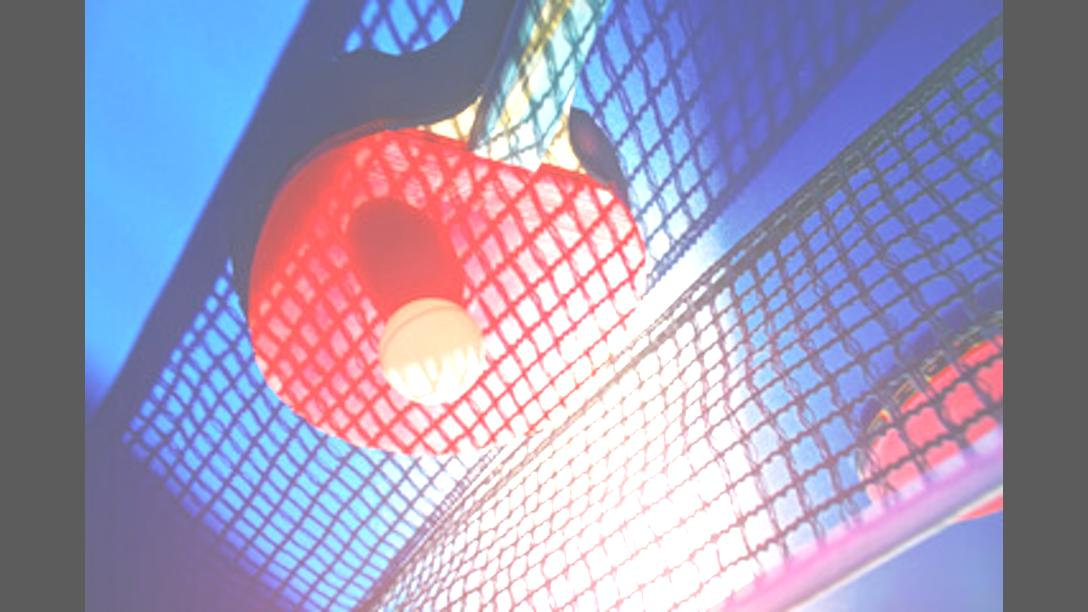Table-Tennis-Ball: (380, 300, 482, 404)
